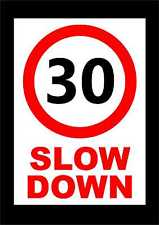Speed_limit_30km: (21, 25, 137, 137)
